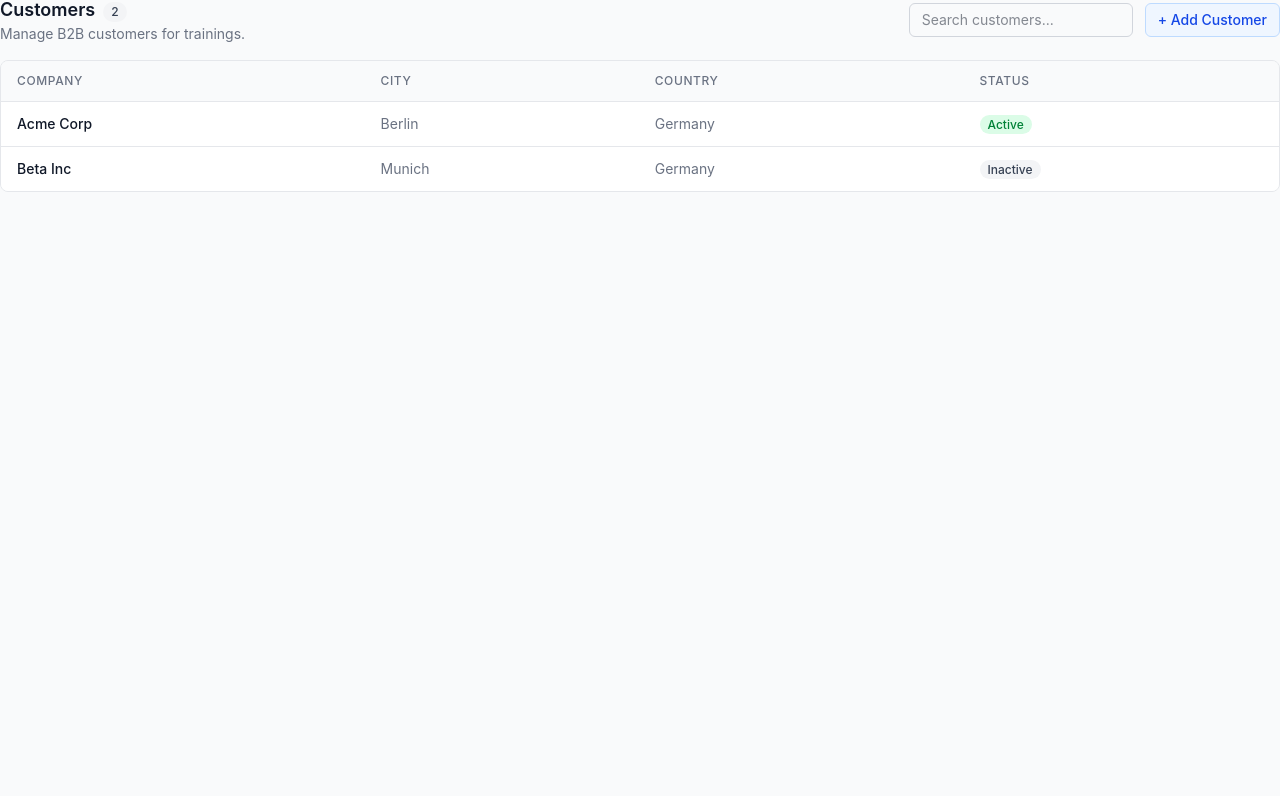
CustomersTab › create form has Cancel button
Click the button "+ Add Customer".
click(1212, 20)  # box [1145,3,1279,37]
(page scrolled)
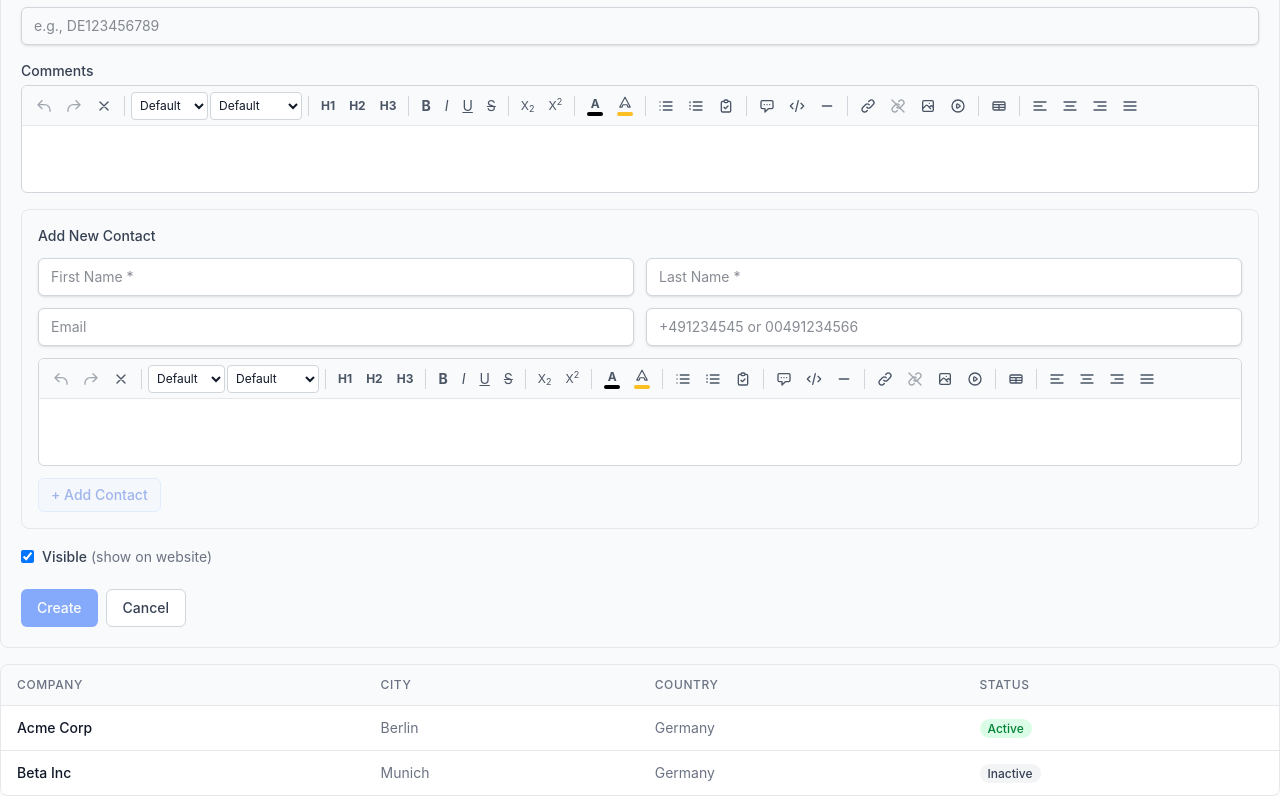
Now the button "Cancel" is shown, box [106,589,186,627]
